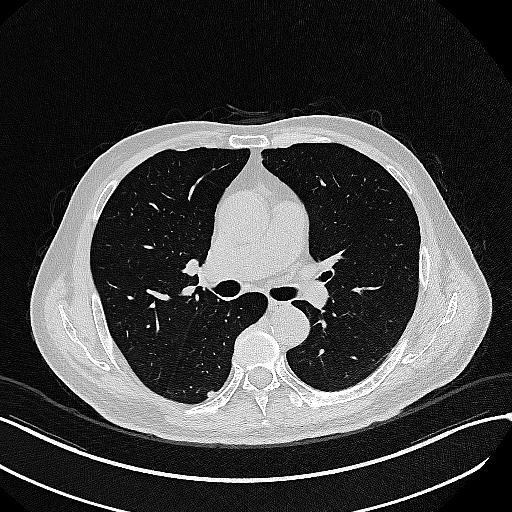nodule: (206, 390, 215, 397)
